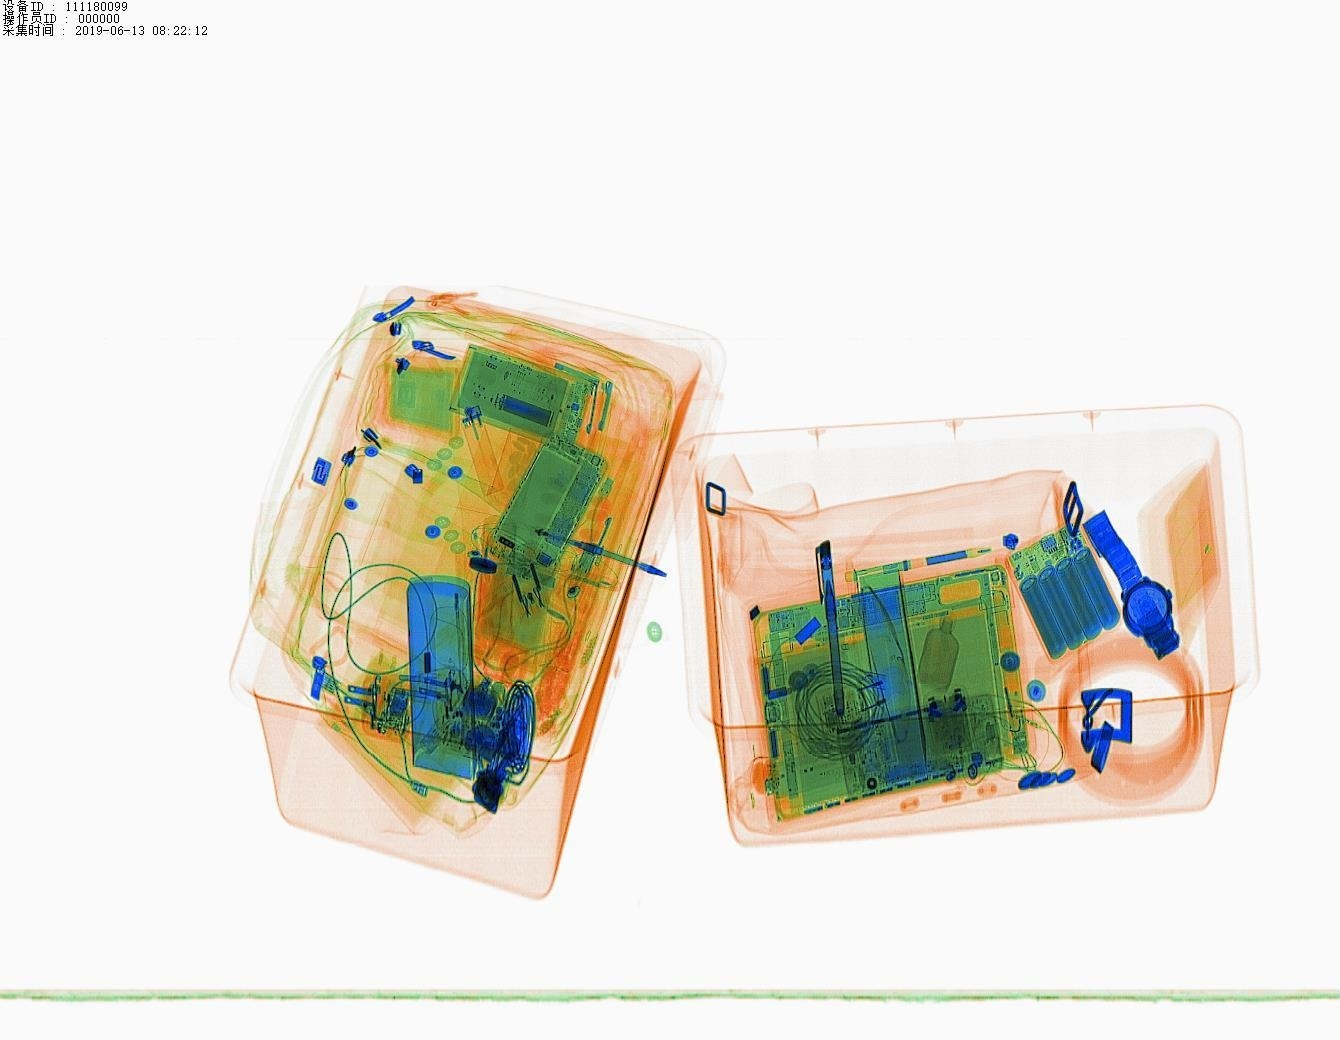NonmetallicFire: (429, 393, 508, 502)
